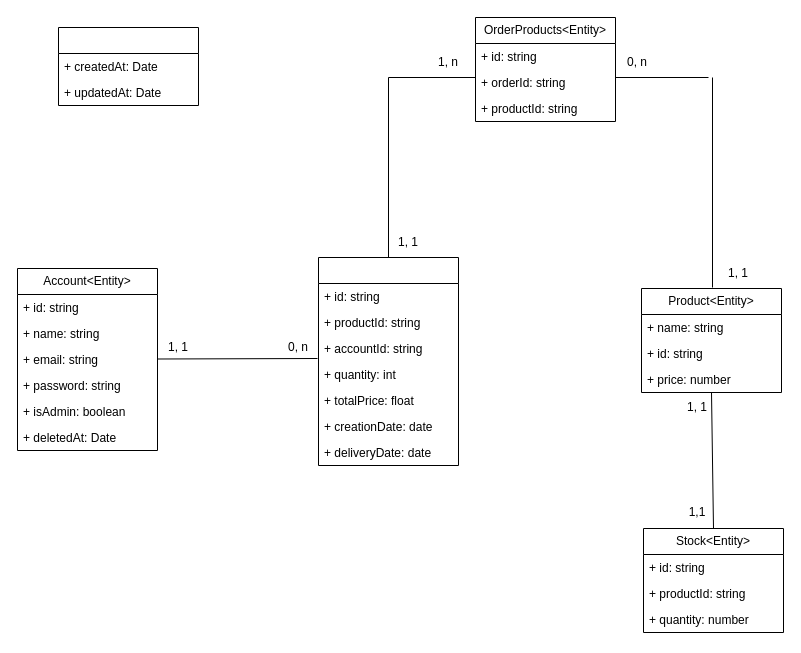
Image size: 801x653. Some labels were removed from this diagram. The shapes that lost their labels are listed below. From the top down, each one's box as (x1, y1, x2, y2) in pixels, then its label:
(58, 26, 198, 106): Entity
(318, 256, 458, 466): Order<Entity>
